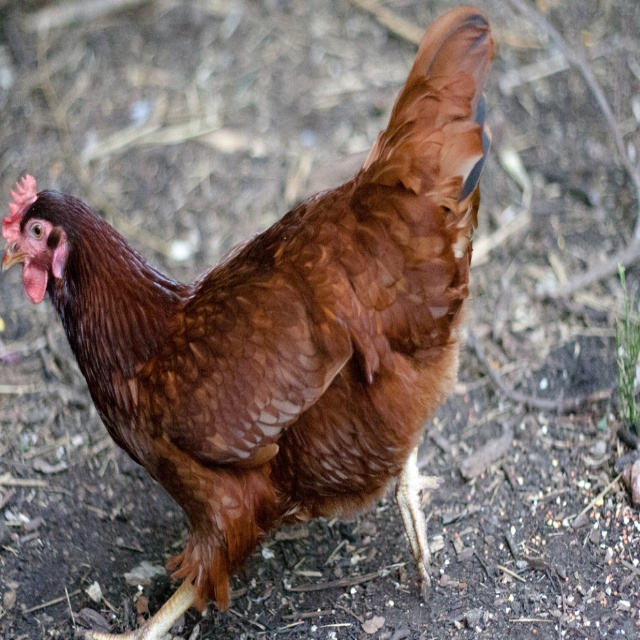Chicken: (18, 19, 498, 640)
